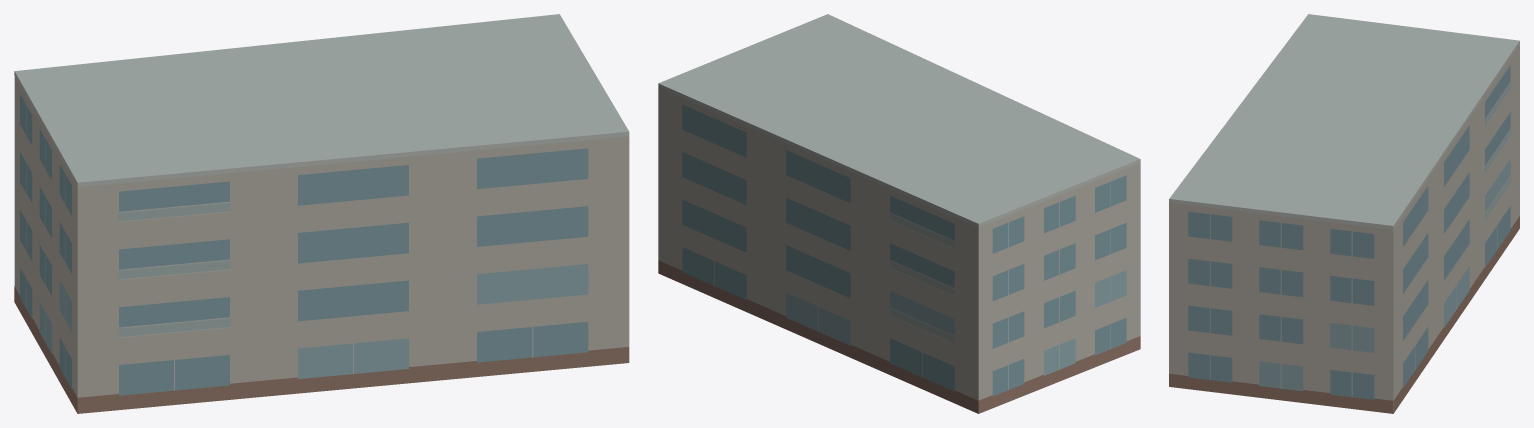
Rendered from survey-upis-32855699.glb.
The picture shows the model from 3 angles, left to right: view 1: azimuth 30°, elevation 25°; view 2: azimuth 150°, elevation 25°; view 3: azimuth 270°, elevation 25°; orthographic projection. The views are drawn at different scales.
Parts seen in each view (by area): view 1: survey-upis-32855699.tmp; view 2: survey-upis-32855699.tmp; view 3: survey-upis-32855699.tmp.
Boxes of the visible parts, x1,y1,x2,y2 form: survey-upis-32855699.tmp: (14, 14, 629, 413); survey-upis-32855699.tmp: (658, 14, 1140, 413); survey-upis-32855699.tmp: (1169, 14, 1519, 413).
Size of the model in its own units: 29.52 by 12.2 by 20.65.
